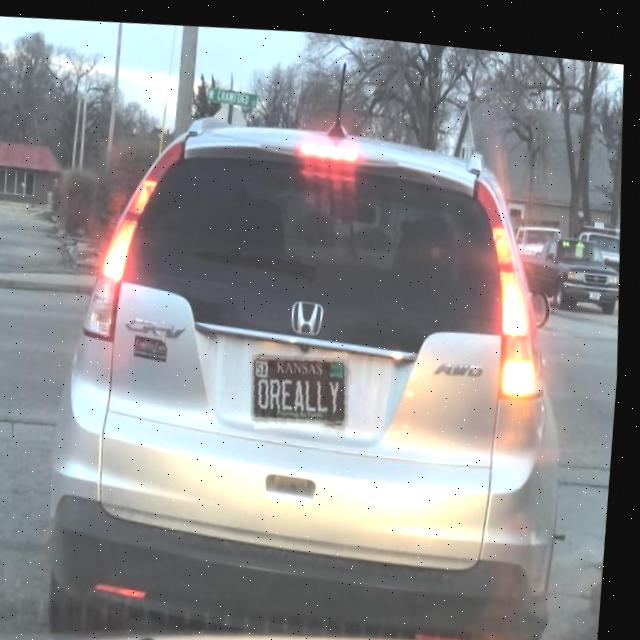LicensePlate: (258, 351, 354, 417)
